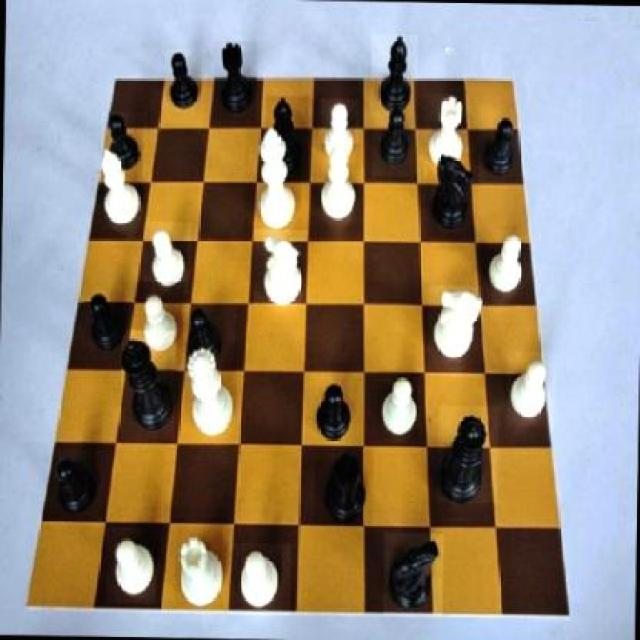bishop: (371, 34, 418, 118), (264, 96, 308, 180)
black-bishop: (120, 331, 177, 442)
black-king: (383, 532, 443, 616), (426, 152, 479, 238)
black-knight: (179, 304, 236, 378), (49, 450, 102, 528), (83, 291, 133, 366), (478, 108, 526, 184), (372, 104, 418, 178), (163, 48, 206, 124), (100, 111, 147, 177), (309, 377, 354, 445)
black-pawn: (437, 405, 499, 502)
black-queen: (314, 446, 373, 526), (214, 40, 257, 121)
black-rook: (311, 143, 360, 231), (94, 151, 143, 230)
white-bishop: (245, 126, 302, 242)
white-king: (428, 286, 483, 377), (254, 229, 307, 306)
white-knight: (228, 543, 290, 616), (132, 282, 185, 364), (106, 528, 157, 604), (508, 352, 557, 426), (482, 224, 528, 300), (142, 222, 190, 294), (375, 369, 418, 440), (318, 99, 359, 168)
white-pawn: (180, 343, 241, 446)
white-queen: (175, 526, 222, 609), (424, 94, 470, 178)
